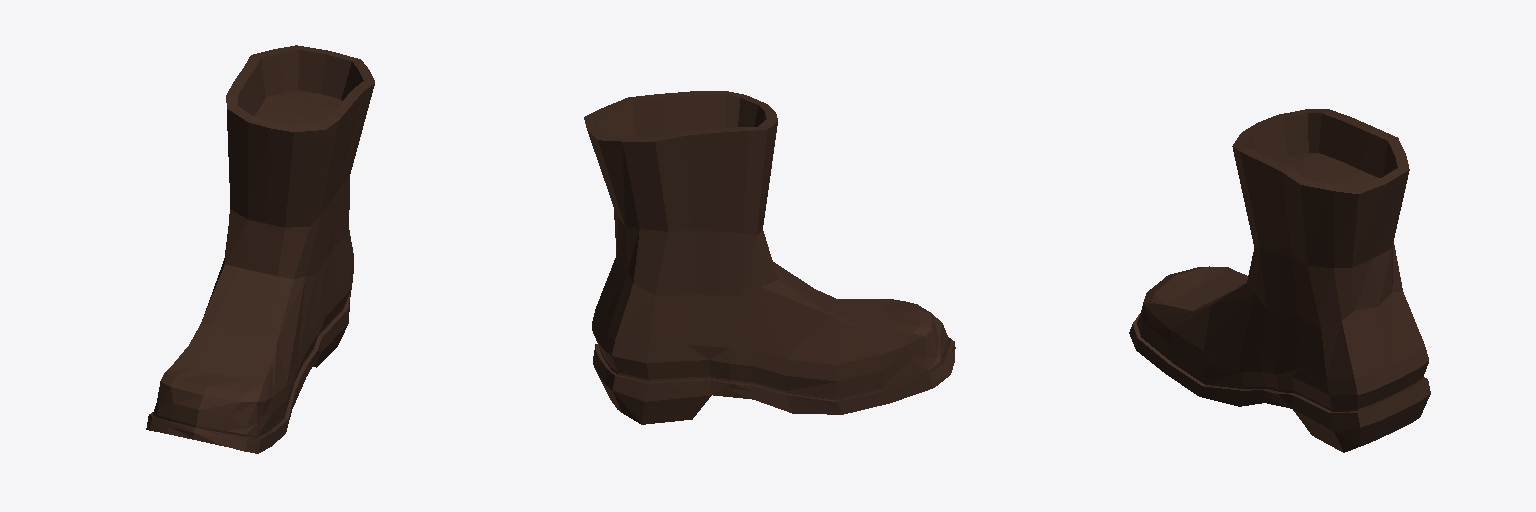
The model's file is Bota.obj.
The picture shows the model from 3 angles: view 1: azimuth 30°, elevation 25°; view 2: azimuth 150°, elevation 25°; view 3: azimuth 270°, elevation 25°; orthographic projection.
Visible parts, largest first — view 1: Mesh; view 2: Mesh; view 3: Mesh.
Part boxes in pixels (left/top/right/bottom): Mesh: left=146, top=45, right=374, bottom=453; Mesh: left=584, top=91, right=955, bottom=424; Mesh: left=1129, top=109, right=1430, bottom=452.
Bounding box in the file's own units: 3.65 × 3.52 × 3.3.